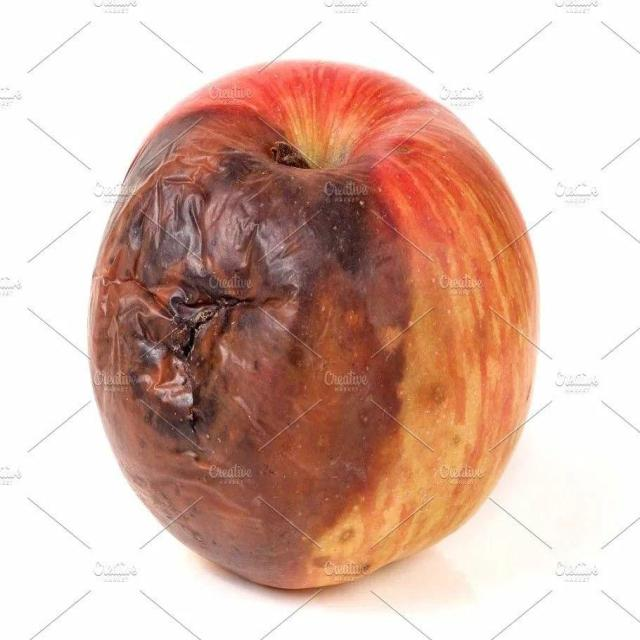rotten apple: (74, 32, 554, 620)
